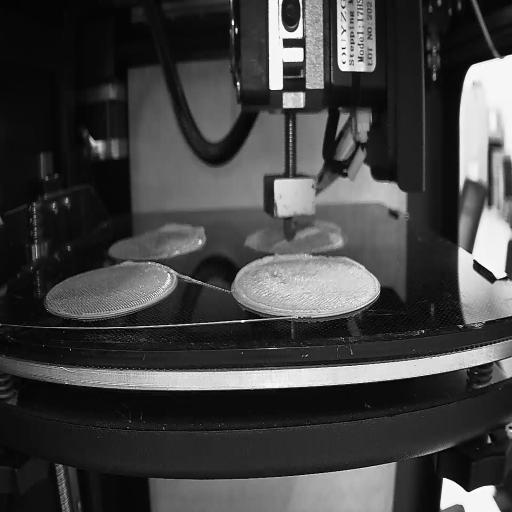over_extrusion: (233, 252, 316, 318), (158, 222, 204, 238), (333, 255, 366, 272), (327, 227, 345, 254), (296, 224, 323, 241), (117, 259, 142, 266), (270, 239, 289, 248)
